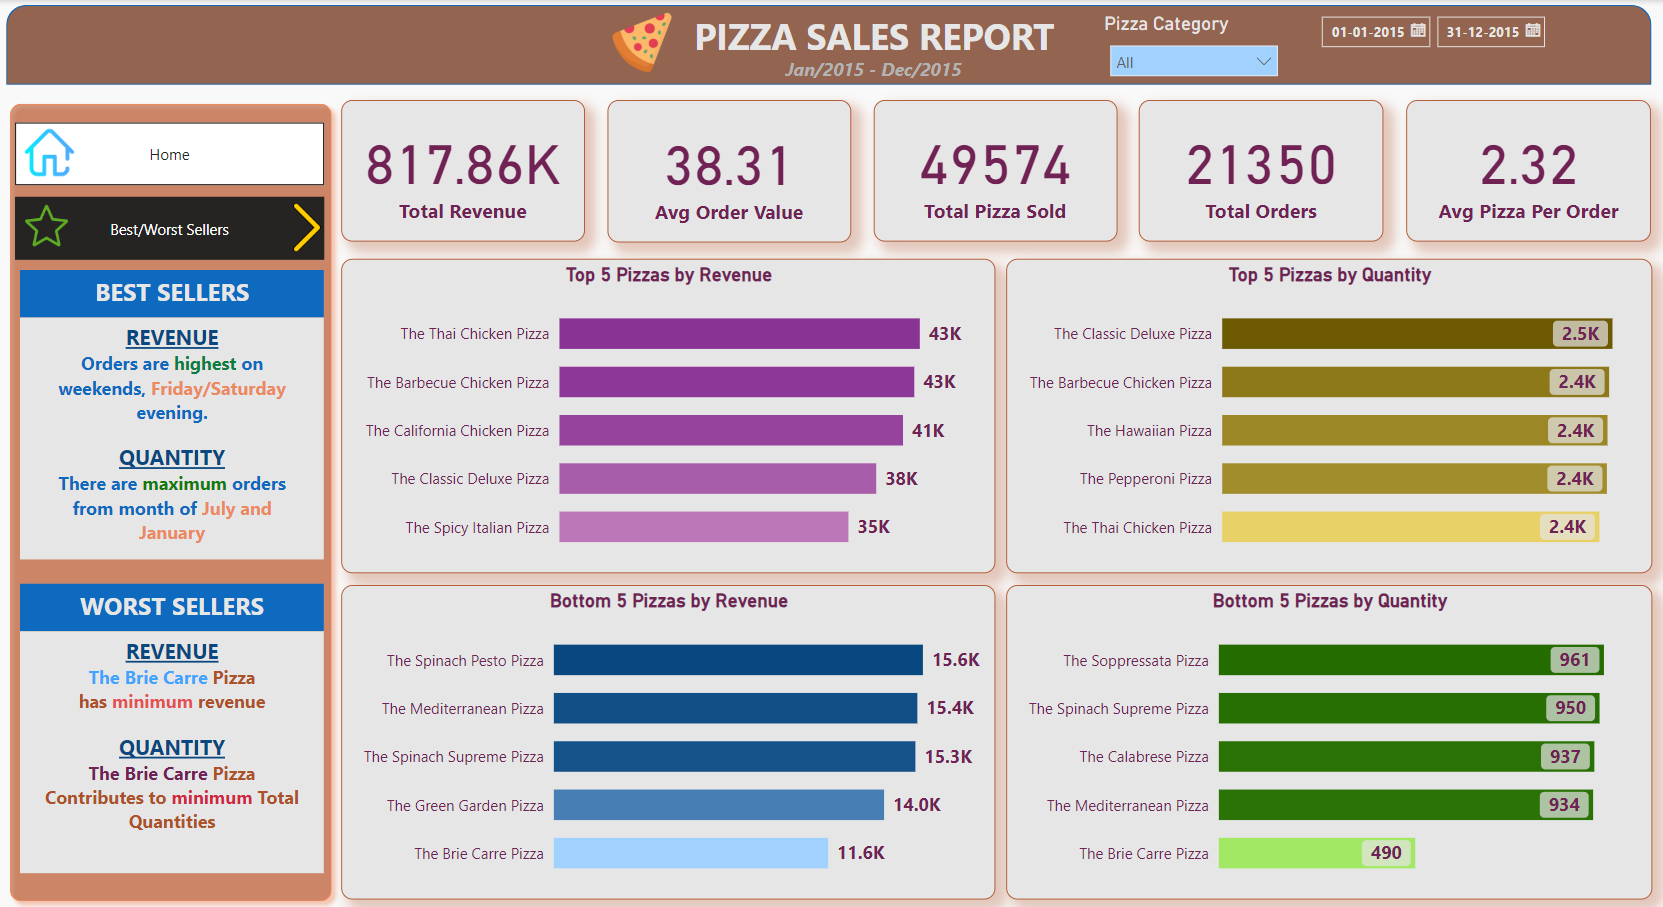

The dashboard page shown, as its layout file describes it:
{"tool":"powerbi","page":{"name":"Best/Worst Sellers","canvas":[1500,820],"ordinal":1},"visuals":[{"type":"shape","box":[8.8,83.8,305,730],"z":0},{"type":"card","fields":{"Values":["pizza_sales.Total Revenue"]},"box":[313.5,89.5,217.5,126.2],"z":1000},{"type":"card","fields":{"Values":["pizza_sales.Avg Order Value"]},"box":[551,89.5,217.5,127.5],"z":2000},{"type":"card","fields":{"Values":["pizza_sales.Total Sold"]},"box":[788.5,89.5,217.5,126.2],"z":3000},{"type":"card","fields":{"Values":["pizza_sales.Total Orders"]},"box":[1026,89.5,218.8,126.2],"z":4000},{"type":"card","fields":{"Values":["pizza_sales.Avg Pizza Per Order"]},"box":[1264.8,89.5,218.8,126.2],"z":5000},{"type":"shape","box":[15,5,1468.8,71.2],"z":6000},{"type":"textbox","box":[618.8,5.2,342.5,61.2],"z":7000},{"type":"textbox","box":[701.2,45.2,176.2,32.5],"z":8000},{"type":"image","box":[546.2,5.2,72.5,65],"z":9000},{"type":"barChart","title":"Top 5 Pizzas by Revenue","fields":{"Y":["pizza_sales.Total Revenue"],"Category":["pizza_sales.pizza_name"]},"box":[313.5,230.6,583.8,281.1],"z":10000},{"type":"slicer","title":"Pizza Category","fields":{"Values":["pizza_sales.pizza_category"]},"box":[990,11.5,170,65],"z":11000},{"type":"slicer","fields":{"Values":["pizza_sales.order_date"]},"box":[1176.2,5,230,71.2],"z":12000},{"type":"textbox","box":[26.4,241.4,271.5,42],"z":13000},{"type":"textbox","box":[26.4,283.5,271.5,216.2],"z":14000},{"type":"textbox","box":[26.4,521.3,271.5,42],"z":15000},{"type":"textbox","box":[26.4,563.3,271.5,216.2],"z":16000},{"type":"pageNavigator","box":[22.8,109.3,276.3,123.7],"z":17000},{"type":"image","box":[252.2,176.6,61.3,54.1],"z":18000},{"type":"image","box":[22.8,109.3,61.3,54.1],"z":19000},{"type":"image","box":[20.4,177.8,61.3,48],"z":20000},{"type":"barChart","title":"Bottom 5 Pizzas by Revenue","fields":{"Y":["pizza_sales.Total Revenue"],"Category":["pizza_sales.pizza_name"]},"box":[313.5,522.5,583.8,281.1],"z":21000},{"type":"barChart","title":"Top 5 Pizzas by Quantity","fields":{"Category":["pizza_sales.pizza_name"],"Y":["pizza_sales.Total Pizza Sold"]},"box":[906.9,230.6,576.6,281.1],"z":22000},{"type":"barChart","title":"Bottom 5 Pizzas by Quantity","fields":{"Category":["pizza_sales.pizza_name"],"Y":["pizza_sales.Total Pizza Sold"]},"box":[906.9,522.5,576.6,281.1],"z":23000}]}

Visuals, with their boxes in screenshot pixels (x1, y1, x2, y2), scaled from the page's 1500x820 canvas onto the 1663x907 screenshot:
shape: (10, 93, 348, 900)
card - pizza_sales.Total Revenue: (348, 99, 589, 239)
card - pizza_sales.Avg Order Value: (611, 99, 852, 240)
card - pizza_sales.Total Sold: (874, 99, 1115, 239)
card - pizza_sales.Total Orders: (1137, 99, 1380, 239)
card - pizza_sales.Avg Pizza Per Order: (1402, 99, 1645, 239)
shape: (17, 6, 1645, 84)
textbox: (686, 6, 1066, 73)
textbox: (777, 50, 973, 86)
image: (606, 6, 686, 78)
"Top 5 Pizzas by Revenue" barChart: (348, 255, 995, 566)
"Pizza Category" slicer: (1098, 13, 1286, 85)
slicer - pizza_sales.order_date: (1304, 6, 1559, 84)
textbox: (29, 267, 330, 313)
textbox: (29, 314, 330, 553)
textbox: (29, 577, 330, 623)
textbox: (29, 623, 330, 862)
pageNavigator: (25, 121, 332, 258)
image: (280, 195, 348, 255)
image: (25, 121, 93, 181)
image: (23, 197, 91, 250)
"Bottom 5 Pizzas by Revenue" barChart: (348, 578, 995, 889)
"Top 5 Pizzas by Quantity" barChart: (1005, 255, 1645, 566)
"Bottom 5 Pizzas by Quantity" barChart: (1005, 578, 1645, 889)
